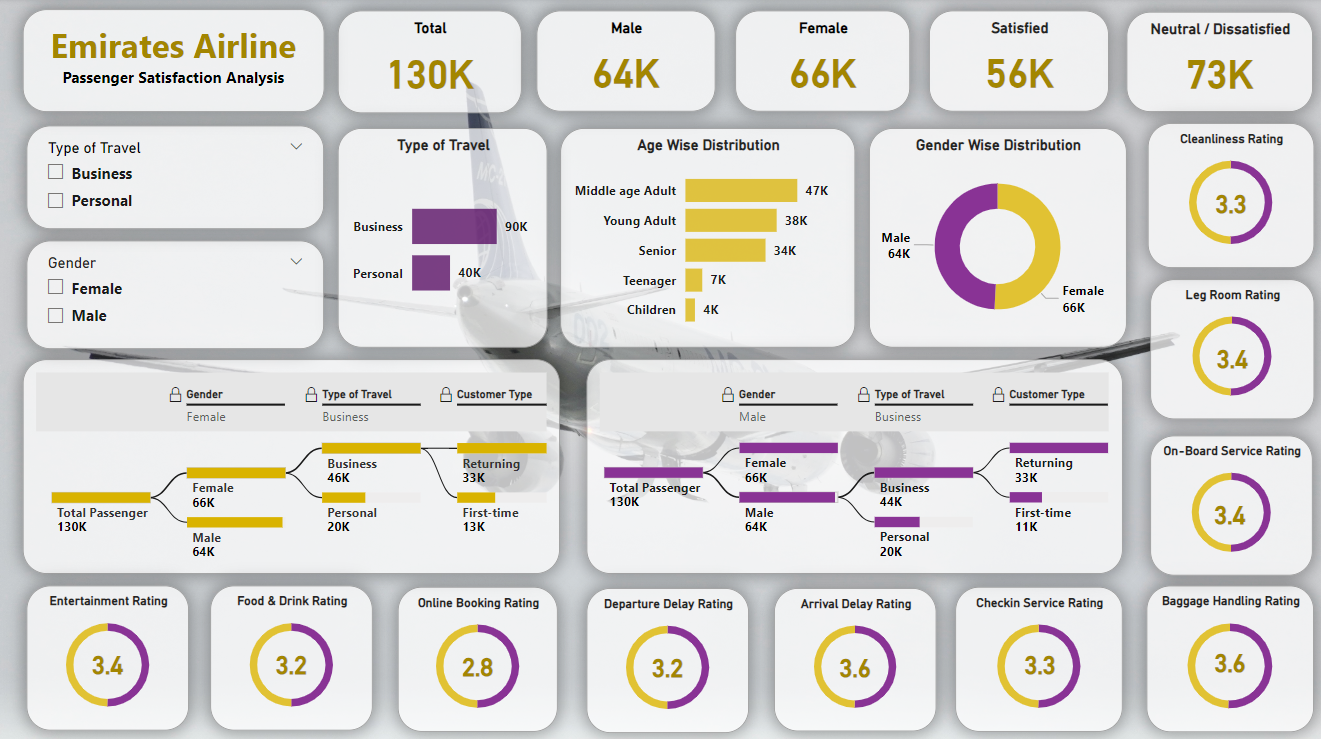

This screenshot's page, from the dashboard's own definition file:
{"tool":"powerbi","page":{"name":"Dashboard","canvas":[1280,720],"ordinal":1},"visuals":[{"type":"clusteredBarChart","title":"Age Wise Distribution","fields":{"Category":["Sheet1.Age Type"],"Y":["CountNonNull(Sheet1.ID)"]},"box":[541.7,125.5,284.7,212.3],"z":0},{"type":"group","id":"g1","title":"Group 9","box":[1111.6,421.9,156.5,134.5],"z":0,"group":"g22"},{"type":"donutChart","title":"Gender Wise Distribution","fields":{"Y":["CountNonNull(Sheet1.Gender)"],"Category":["Sheet1.Gender"]},"box":[839.7,125.5,248.5,212.3],"z":1000},{"type":"card","title":"Gender Wise Distribution","fields":{"Values":["Avg(Sheet1.On-board Service)"]},"box":[1154.4,473.4,69.7,48],"z":1000,"group":"g22"},{"type":"card","title":"Total ","fields":{"Values":["CountNonNull(Sheet1.ID)"]},"box":[326.9,12.1,177.3,98.9],"z":2000},{"type":"card","title":"Male ","fields":{"Values":["Sheet1.MaleCount"]},"box":[518.8,12.1,172.5,97.7],"z":3000},{"type":"card","title":"Female ","fields":{"Values":["Sheet1.FemaleCount"]},"box":[710.6,12.1,168.9,97.7],"z":4000},{"type":"card","title":"Satisfied ","fields":{"Values":["Sheet1.Satisfied"]},"box":[897.6,12.1,173.7,97.7],"z":5000},{"type":"card","title":"Neutral / Dissatisfied","fields":{"Values":["Sheet1.Neutral or Dissatisfied"]},"box":[1088.2,13.3,179.8,96.5],"z":6000},{"type":"donutChart","title":"Baggage Handling Rating","fields":{"Y":["Avg(Sheet1.Baggage Handling)"],"Category":["Sheet1.Gender"]},"box":[1107.1,566.9,161.4,141.8],"z":7000,"group":"g23"},{"type":"group","id":"g2","title":"Group 2","box":[26.9,567.4,156.8,139.9],"z":7000,"group":"g24"},{"type":"group","id":"g3","title":"Group 2","box":[204.2,567.4,156.8,139.9],"z":7000,"group":"g33"},{"type":"group","id":"g4","title":"Group 7","box":[922.9,568.2,161.7,139.9],"z":7000},{"type":"group","id":"g5","title":"Group 2","box":[567.4,569.8,156.8,139.9],"z":7000,"group":"g27"},{"type":"group","id":"g6","title":"Group 2","box":[748.4,569.8,156.8,138.7],"z":7000,"group":"g28"},{"type":"donutChart","title":"Cleanliness Rating","fields":{"Y":["Avg(Sheet1.Cleanliness)"],"Category":["Sheet1.Gender"]},"box":[1108.7,120.6,160.5,139.9],"z":8000,"group":"g21"},{"type":"donutChart","title":"Entertainment Rating","fields":{"Category":["Sheet1.Gender"],"Y":["Avg(Sheet1.In-flight Entertainment)"]},"box":[26.9,567.4,156.8,139.9],"z":8000,"group":"g11"},{"type":"donutChart","title":"Food & Drink Rating","fields":{"Category":["Sheet1.Gender"],"Y":["Avg(Sheet1.Food and Drink)"]},"box":[204.2,567.4,156.8,139.9],"z":8000,"group":"g12"},{"type":"group","id":"g7","title":"Group 4","box":[384.9,568.2,154.4,139.9],"z":8000},{"type":"donutChart","title":"Online Booking Rating","fields":{"Y":["Avg(Sheet1.Ease of Online Booking)"],"Category":["Sheet1.Gender"]},"box":[384.9,568.2,154.4,139.9],"z":8000,"group":"g25"},{"type":"donutChart","title":"Checkin Service Rating","fields":{"Y":["Avg(Sheet1.Check-in Service)"],"Category":["Sheet1.Gender"]},"box":[922.9,568.2,161.7,139.9],"z":8000,"group":"g26"},{"type":"donutChart","title":"Departure Delay Rating","fields":{"Category":["Sheet1.Gender"],"Y":["Avg(Sheet1.Departure Delay)"]},"box":[567.4,569.8,156.8,139.9],"z":8000,"group":"g13"},{"type":"donutChart","title":"Arrival Delay Rating","fields":{"Category":["Sheet1.Gender"],"Y":["Avg(Sheet1.Arrival Delay)"]},"box":[748.4,569.8,156.8,138.7],"z":8000,"group":"g14"},{"type":"card","title":"Gender Wise Distribution","fields":{"Values":["Avg(Sheet1.In-flight Entertainment)"]},"box":[77.6,621.7,55.5,44.6],"z":8000,"group":"g24"},{"type":"card","title":"Gender Wise Distribution","fields":{"Values":["Avg(Sheet1.Food and Drink)"]},"box":[254.9,621.7,55.5,44.6],"z":8000,"group":"g33"},{"type":"card","title":"Gender Wise Distribution","fields":{"Values":["Avg(Sheet1.Arrival Delay)"]},"box":[799.1,623.6,55.5,44.3],"z":8000,"group":"g28"},{"type":"card","title":"Gender Wise Distribution","fields":{"Values":["Avg(Sheet1.Departure Delay)"]},"box":[618.1,624.1,55.5,44.6],"z":8000,"group":"g27"},{"type":"group","id":"g8","title":"Group 12","box":[1107.1,566.9,161.4,141.8],"z":9000},{"type":"card","title":"Gender Wise Distribution","fields":{"Values":["Avg(Sheet1.Baggage Handling)"]},"box":[1156.1,616.9,62.6,49.5],"z":9000,"group":"g23"},{"type":"card","title":"Gender Wise Distribution","fields":{"Values":["Avg(Sheet1.Check-in Service)"]},"box":[981.4,620.4,45.8,47],"z":9000,"group":"g26"},{"type":"card","title":"Gender Wise Distribution","fields":{"Values":["Avg(Sheet1.Ease of Online Booking)"]},"box":[431.7,622,60.3,44.6],"z":9000,"group":"g25"},{"type":"donutChart","title":"Leg Room Rating","fields":{"Y":["Avg(Sheet1.Leg Room Service)"],"Category":["Sheet1.Gender"]},"box":[1111.6,271.5,158,135],"z":10000,"group":"g10"},{"type":"decompositionTreeVisual","fields":{"Analyze":["CountNonNull(Sheet1.ID)"],"ExplainBy":["Sheet1.Gender","Sheet1.Type of Travel","Sheet1.Customer Type"]},"box":[567,348.7,517.6,207.5],"z":10000},{"type":"donutChart","title":"On-Board Service Rating","fields":{"Category":["Sheet1.Gender"],"Y":["Avg(Sheet1.On-board Service)"]},"box":[1111.6,421.9,156.8,135],"z":10000,"group":"g1"},{"type":"card","title":"Gender Wise Distribution","fields":{"Values":["Avg(Sheet1.Cleanliness)"]},"box":[1154.3,173.6,69.7,50.1],"z":11000,"group":"g21"},{"type":"group","id":"g9","title":"Group 14","box":[567.4,569.8,156.8,139.9],"z":11000},{"type":"group","id":"g10","title":"Group 9","box":[1111.6,271.5,157.7,134.5],"z":12000,"group":"g20"},{"type":"decompositionTreeVisual","fields":{"Analyze":["CountNonNull(Sheet1.ID)"],"ExplainBy":["Sheet1.Gender","Sheet1.Type of Travel","Sheet1.Customer Type"]},"box":[22.9,348.7,518.8,207.5],"z":12000},{"type":"slicer","fields":{"Values":["Sheet1.Gender"]},"box":[26.9,233.6,287.4,105.2],"z":13000},{"type":"slicer","fields":{"Values":["Sheet1.Type of Travel"]},"box":[26.9,123.5,287.4,100.3],"z":14000},{"type":"clusteredBarChart","title":"Type of Travel","fields":{"Y":["CountNonNull(Sheet1.ID)"],"Category":["Sheet1.Type of Travel"]},"box":[326.9,125.5,202.7,212.3],"z":15000},{"type":"group","id":"g11","title":"Group 3","box":[26.9,567.4,156.8,139.9],"z":15001,"group":"g2"},{"type":"group","id":"g12","title":"Group 3","box":[204.2,567.4,156.8,139.9],"z":15001,"group":"g3"},{"type":"group","id":"g13","title":"Group 3","box":[567.4,569.8,156.8,139.9],"z":15001,"group":"g5"},{"type":"group","id":"g14","title":"Group 3","box":[748.4,569.8,156.8,138.7],"z":15001,"group":"g6"},{"type":"group","id":"g15","title":"Group 8","box":[922.9,568.2,161.7,139.9],"z":15002,"group":"g4"},{"type":"textbox","box":[23.2,11,291,99],"z":16000},{"type":"group","id":"g16","title":"Group 14","box":[204.2,567.4,156.8,139.9],"z":17000},{"type":"group","id":"g17","title":"Group 14","box":[26.9,567.4,156.8,139.9],"z":18000},{"type":"group","id":"g18","title":"Group 14","box":[748.4,569.8,156.8,138.7],"z":19000},{"type":"card","title":"Gender Wise Distribution","fields":{"Values":["Avg(Sheet1.Leg Room Service)"]},"box":[1156.8,322.9,67.3,50.1],"z":20000,"group":"g20"},{"type":"group","id":"g19","title":"Group 6","box":[1111.6,421.9,156.5,134.5],"z":20000},{"type":"group","id":"g20","title":"Group 20","box":[1111.6,271.5,157.7,134.5],"z":21000},{"type":"group","id":"g21","title":"Group 21","box":[1108.7,120.6,160.5,139.9],"z":22000},{"type":"group","id":"g22","title":"Group 19","box":[1111.6,421.9,156.5,134.5],"z":24001,"group":"g19"},{"type":"group","id":"g23","title":"Group 18","box":[1107.1,566.9,161.4,141.8],"z":24001,"group":"g8"},{"type":"group","id":"g24","title":"Group 11","box":[26.9,567.4,156.8,139.9],"z":24001,"group":"g32"},{"type":"group","id":"g25","title":"Group 13","box":[384.9,568.2,154.4,139.9],"z":24001,"group":"g7"},{"type":"group","id":"g26","title":"Group 17","box":[922.9,568.2,161.7,139.9],"z":24001,"group":"g15"},{"type":"group","id":"g27","title":"Group 15","box":[567.4,569.8,156.8,139.9],"z":24001,"group":"g9"},{"type":"group","id":"g28","title":"Group 16","box":[748.4,569.8,156.8,138.7],"z":24001,"group":"g34"},{"type":"group","id":"g29","title":"Group 1","box":[26.9,567.4,156.8,139.9],"z":26002,"group":"g17"},{"type":"group","id":"g30","title":"Group 1","box":[204.2,567.4,156.8,139.9],"z":26002,"group":"g16"},{"type":"group","id":"g31","title":"Group 1","box":[748.4,569.8,156.8,138.7],"z":26002,"group":"g18"},{"type":"group","id":"g32","title":"Group 5","box":[26.9,567.4,156.8,139.9],"z":26003,"group":"g29"},{"type":"group","id":"g33","title":"Group 10","box":[204.2,567.4,156.8,139.9],"z":26003,"group":"g30"},{"type":"group","id":"g34","title":"Group 5","box":[748.4,569.8,156.8,138.7],"z":26003,"group":"g31"}]}

Visuals, with their boxes in screenshot pixels (x1, y1, x2, y2), scaled from the page's 1280x720 canvas onto the 1321x739 screenshot:
"Age Wise Distribution" clusteredBarChart: (left=559, top=129, right=853, bottom=347)
"Group 9" group: (left=1147, top=433, right=1309, bottom=571)
"Gender Wise Distribution" donutChart: (left=867, top=129, right=1123, bottom=347)
"Gender Wise Distribution" card: (left=1191, top=486, right=1263, bottom=535)
"Total " card: (left=337, top=12, right=520, bottom=114)
"Male " card: (left=535, top=12, right=713, bottom=113)
"Female " card: (left=733, top=12, right=908, bottom=113)
"Satisfied " card: (left=926, top=12, right=1106, bottom=113)
"Neutral / Dissatisfied" card: (left=1123, top=14, right=1309, bottom=113)
"Baggage Handling Rating" donutChart: (left=1143, top=582, right=1309, bottom=727)
"Group 2" group: (left=28, top=582, right=190, bottom=726)
"Group 2" group: (left=211, top=582, right=373, bottom=726)
"Group 7" group: (left=952, top=583, right=1119, bottom=727)
"Group 2" group: (left=586, top=585, right=747, bottom=728)
"Group 2" group: (left=772, top=585, right=934, bottom=727)
"Cleanliness Rating" donutChart: (left=1144, top=124, right=1310, bottom=267)
"Entertainment Rating" donutChart: (left=28, top=582, right=190, bottom=726)
"Food & Drink Rating" donutChart: (left=211, top=582, right=373, bottom=726)
"Group 4" group: (left=397, top=583, right=557, bottom=727)
"Online Booking Rating" donutChart: (left=397, top=583, right=557, bottom=727)
"Checkin Service Rating" donutChart: (left=952, top=583, right=1119, bottom=727)
"Departure Delay Rating" donutChart: (left=586, top=585, right=747, bottom=728)
"Arrival Delay Rating" donutChart: (left=772, top=585, right=934, bottom=727)
"Gender Wise Distribution" card: (left=80, top=638, right=137, bottom=684)
"Gender Wise Distribution" card: (left=263, top=638, right=320, bottom=684)
"Gender Wise Distribution" card: (left=825, top=640, right=882, bottom=686)
"Gender Wise Distribution" card: (left=638, top=641, right=695, bottom=686)
"Group 12" group: (left=1143, top=582, right=1309, bottom=727)
"Gender Wise Distribution" card: (left=1193, top=633, right=1258, bottom=684)
"Gender Wise Distribution" card: (left=1013, top=637, right=1060, bottom=685)
"Gender Wise Distribution" card: (left=446, top=638, right=508, bottom=684)
"Leg Room Rating" donutChart: (left=1147, top=279, right=1310, bottom=417)
decompositionTreeVisual - CountNonNull(Sheet1.ID) x Sheet1.Gender: (left=585, top=358, right=1119, bottom=571)
"On-Board Service Rating" donutChart: (left=1147, top=433, right=1309, bottom=572)
"Gender Wise Distribution" card: (left=1191, top=178, right=1263, bottom=230)
"Group 14" group: (left=586, top=585, right=747, bottom=728)
"Group 9" group: (left=1147, top=279, right=1310, bottom=417)
decompositionTreeVisual - CountNonNull(Sheet1.ID) x Sheet1.Gender: (left=24, top=358, right=559, bottom=571)
slicer - Sheet1.Gender: (left=28, top=240, right=324, bottom=348)
slicer - Sheet1.Type of Travel: (left=28, top=127, right=324, bottom=230)
"Type of Travel" clusteredBarChart: (left=337, top=129, right=547, bottom=347)
"Group 3" group: (left=28, top=582, right=190, bottom=726)
"Group 3" group: (left=211, top=582, right=373, bottom=726)
"Group 3" group: (left=586, top=585, right=747, bottom=728)
"Group 3" group: (left=772, top=585, right=934, bottom=727)
"Group 8" group: (left=952, top=583, right=1119, bottom=727)
textbox: (left=24, top=11, right=324, bottom=113)
"Group 14" group: (left=211, top=582, right=373, bottom=726)
"Group 14" group: (left=28, top=582, right=190, bottom=726)
"Group 14" group: (left=772, top=585, right=934, bottom=727)
"Gender Wise Distribution" card: (left=1194, top=331, right=1263, bottom=383)
"Group 6" group: (left=1147, top=433, right=1309, bottom=571)
"Group 20" group: (left=1147, top=279, right=1310, bottom=417)
"Group 21" group: (left=1144, top=124, right=1310, bottom=267)
"Group 19" group: (left=1147, top=433, right=1309, bottom=571)
"Group 18" group: (left=1143, top=582, right=1309, bottom=727)
"Group 11" group: (left=28, top=582, right=190, bottom=726)
"Group 13" group: (left=397, top=583, right=557, bottom=727)
"Group 17" group: (left=952, top=583, right=1119, bottom=727)
"Group 15" group: (left=586, top=585, right=747, bottom=728)
"Group 16" group: (left=772, top=585, right=934, bottom=727)
"Group 1" group: (left=28, top=582, right=190, bottom=726)
"Group 1" group: (left=211, top=582, right=373, bottom=726)
"Group 1" group: (left=772, top=585, right=934, bottom=727)
"Group 5" group: (left=28, top=582, right=190, bottom=726)
"Group 10" group: (left=211, top=582, right=373, bottom=726)
"Group 5" group: (left=772, top=585, right=934, bottom=727)
